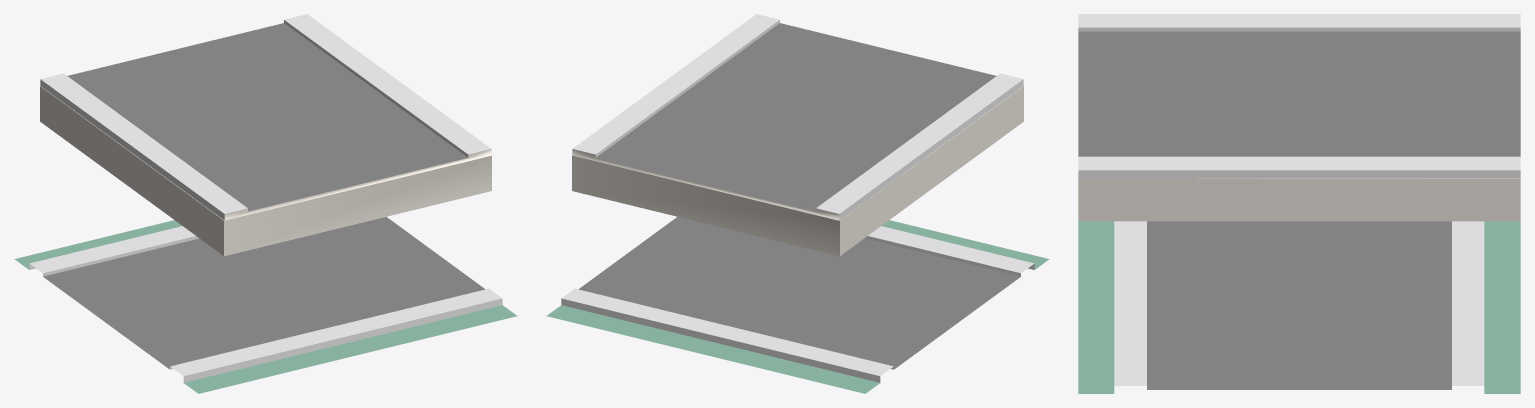
The model's file is roadStraightBridgeMidRoad.fbx.
3 renders of one model, left to right at view 1: azimuth 30°, elevation 25°; view 2: azimuth 150°, elevation 25°; view 3: azimuth 270°, elevation 25°, orthographic. The views are drawn at different scales.
Visible parts, largest first — view 1: roadStraightBridgeMidRoad; view 2: roadStraightBridgeMidRoad; view 3: roadStraightBridgeMidRoad.
Boxes of the visible parts, bbox=[...] form: roadStraightBridgeMidRoad: bbox=[14, 14, 517, 393]; roadStraightBridgeMidRoad: bbox=[546, 14, 1049, 393]; roadStraightBridgeMidRoad: bbox=[1078, 14, 1520, 393].
Bounding box in the file's own units: 1000 × 520 × 1001.
